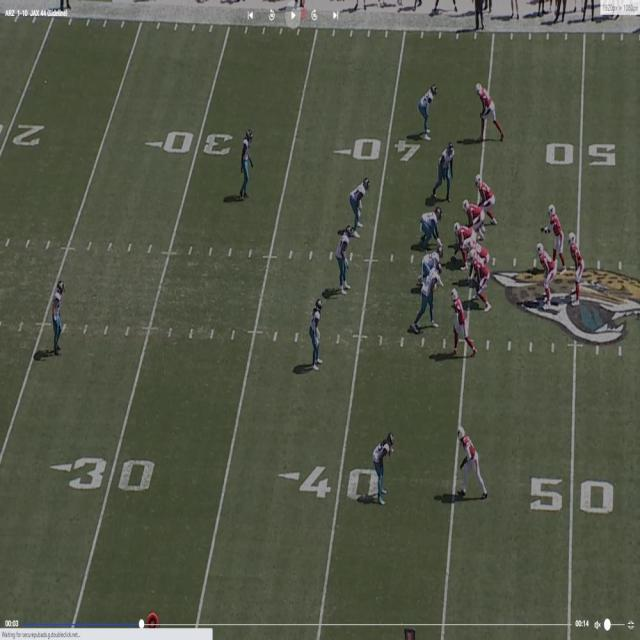center: (454, 221, 472, 267)
db: (373, 432, 394, 500), (54, 276, 66, 356), (239, 130, 253, 193), (311, 297, 323, 369), (422, 86, 438, 136)
lb: (340, 224, 354, 293), (351, 180, 369, 232)
qb: (548, 200, 564, 270)
skill: (458, 424, 486, 494), (476, 81, 502, 140), (566, 234, 585, 307), (534, 244, 556, 306), (449, 284, 468, 348)
